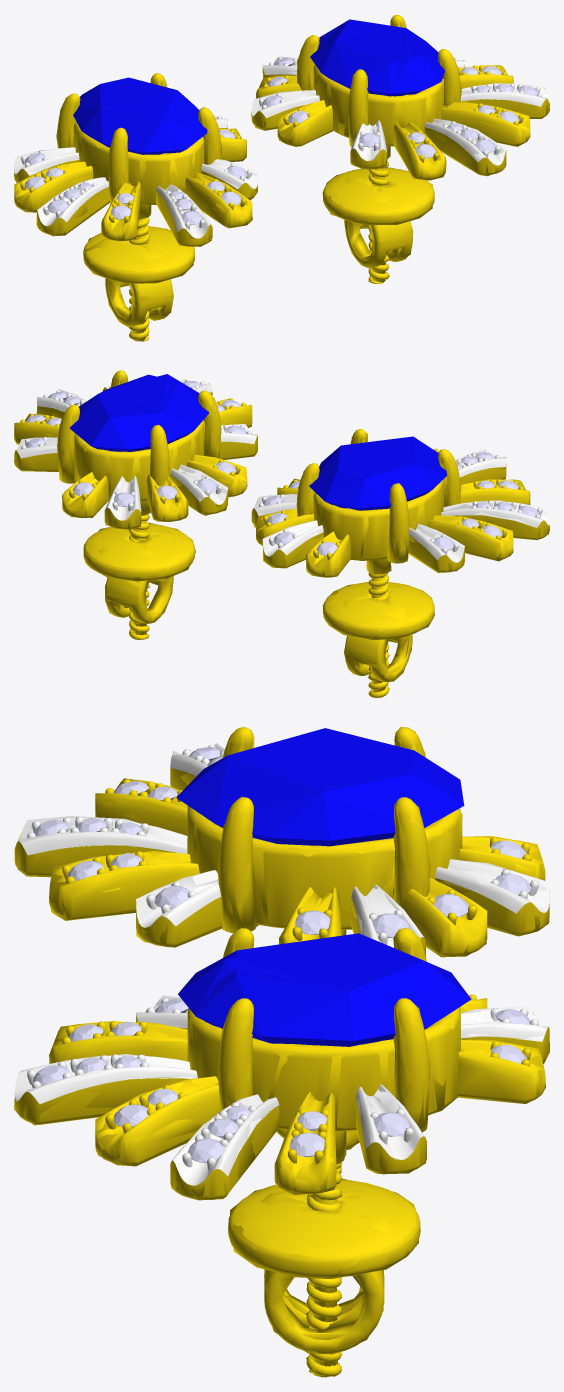
Rendered from DT-D000284439_hub.glb.
3 renders of one model, top to bottom at view 1: azimuth 30°, elevation 25°; view 2: azimuth 150°, elevation 25°; view 3: azimuth 270°, elevation 25°, orthographic. The views are drawn at different scales.
Parts seen in each view (by area): view 1: highPolyMesh, lowPolyMesh; view 2: highPolyMesh, lowPolyMesh; view 3: highPolyMesh, lowPolyMesh.
Boxes of the visible parts, x1=… form: highPolyMesh: x1=14, y1=15, x2=549, y2=341; lowPolyMesh: x1=14, y1=14, x2=549, y2=341; highPolyMesh: x1=14, y1=370, x2=549, y2=697; lowPolyMesh: x1=14, y1=370, x2=549, y2=697; highPolyMesh: x1=14, y1=727, x2=549, y2=1377; lowPolyMesh: x1=14, y1=726, x2=549, y2=1377.
Bounding box in the file's own units: 0.0327 × 0.0148 × 0.0174.
